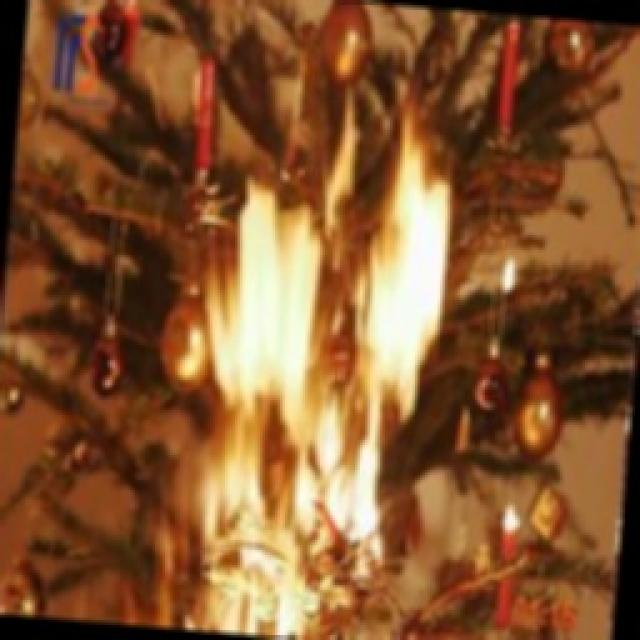fire: (179, 114, 471, 548)
